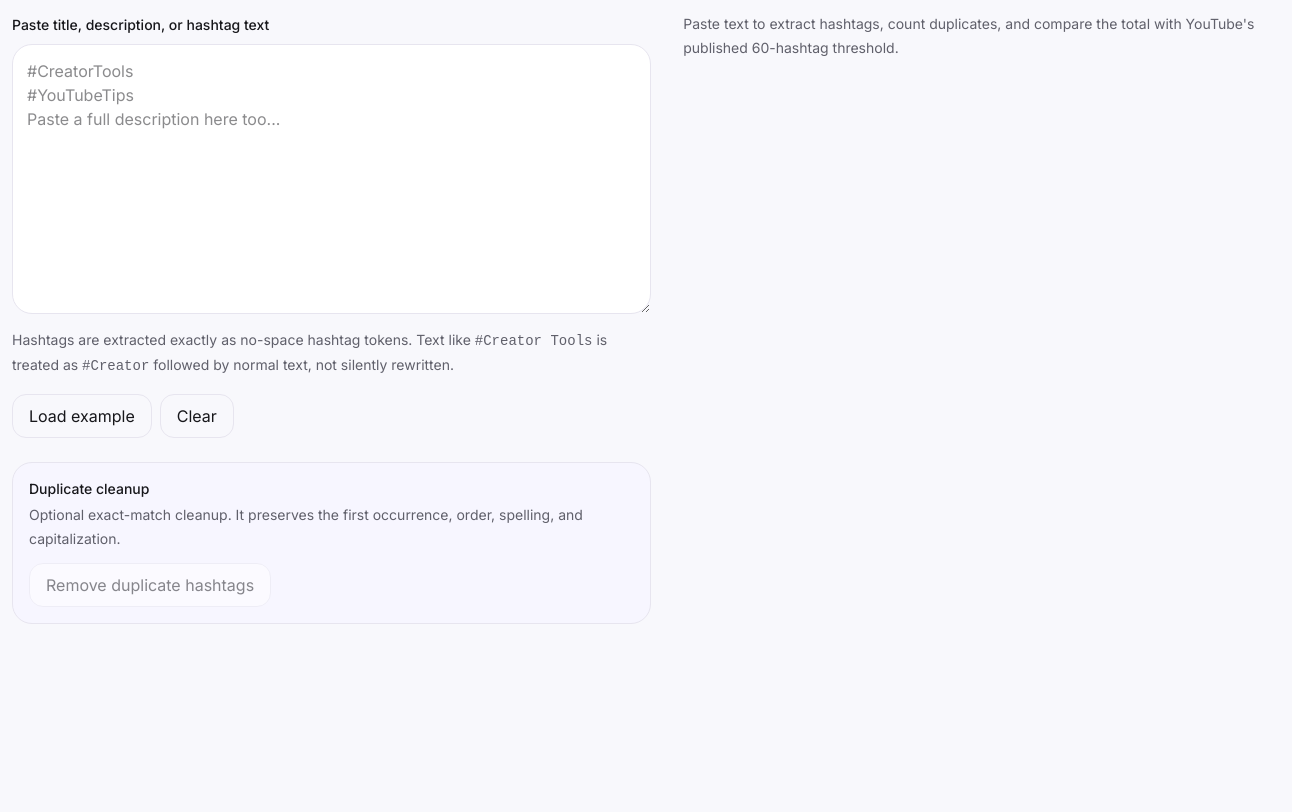
Test: YoutubeHashtagChecker › copies exactly the displayed extracted hashtag output
The width and height of the screenshot is (1292, 812).
Step 1. Replace the text in the text box labelled "Paste title, description, or hashtag text" with "Intro #One, #Two #One" → (332, 179), box [12,44,651,314]
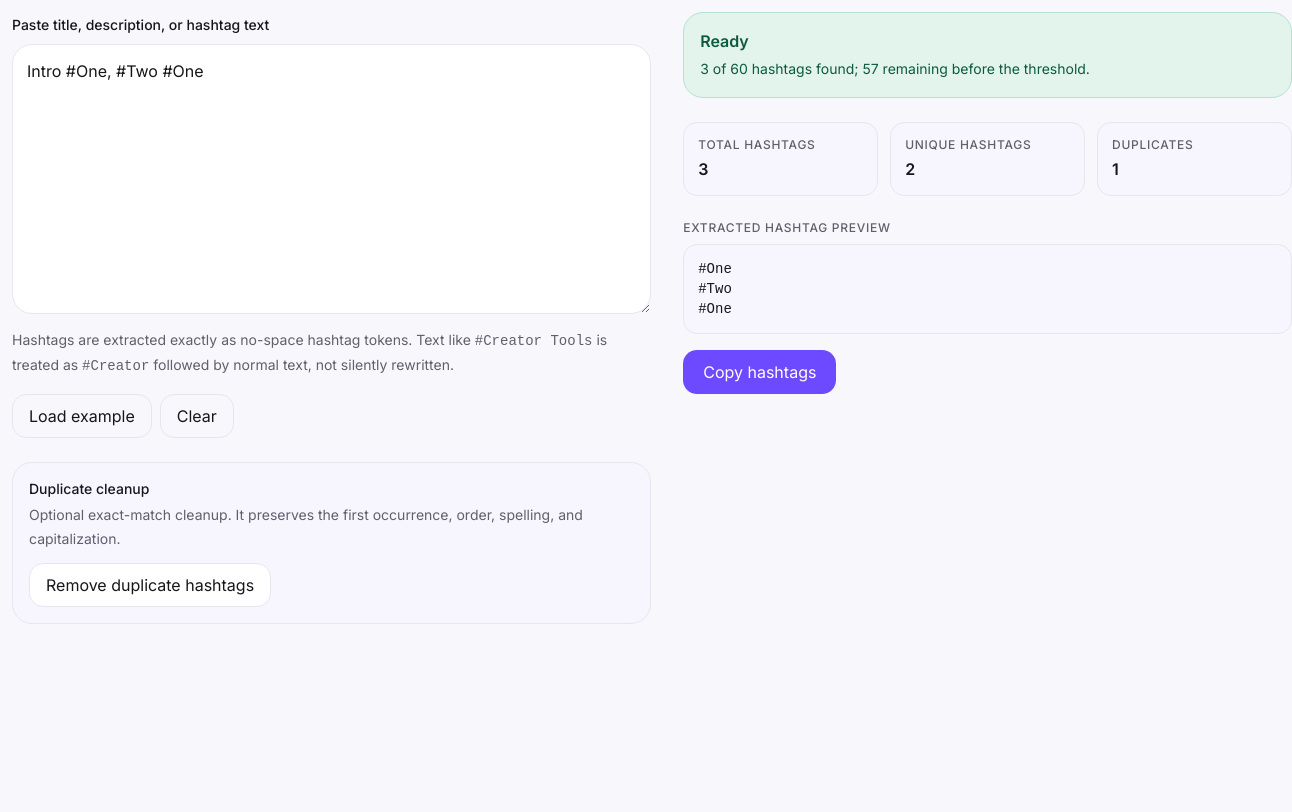
Step 2. Click the button "Copy hashtags" → (760, 372), box [683,350,836,394]
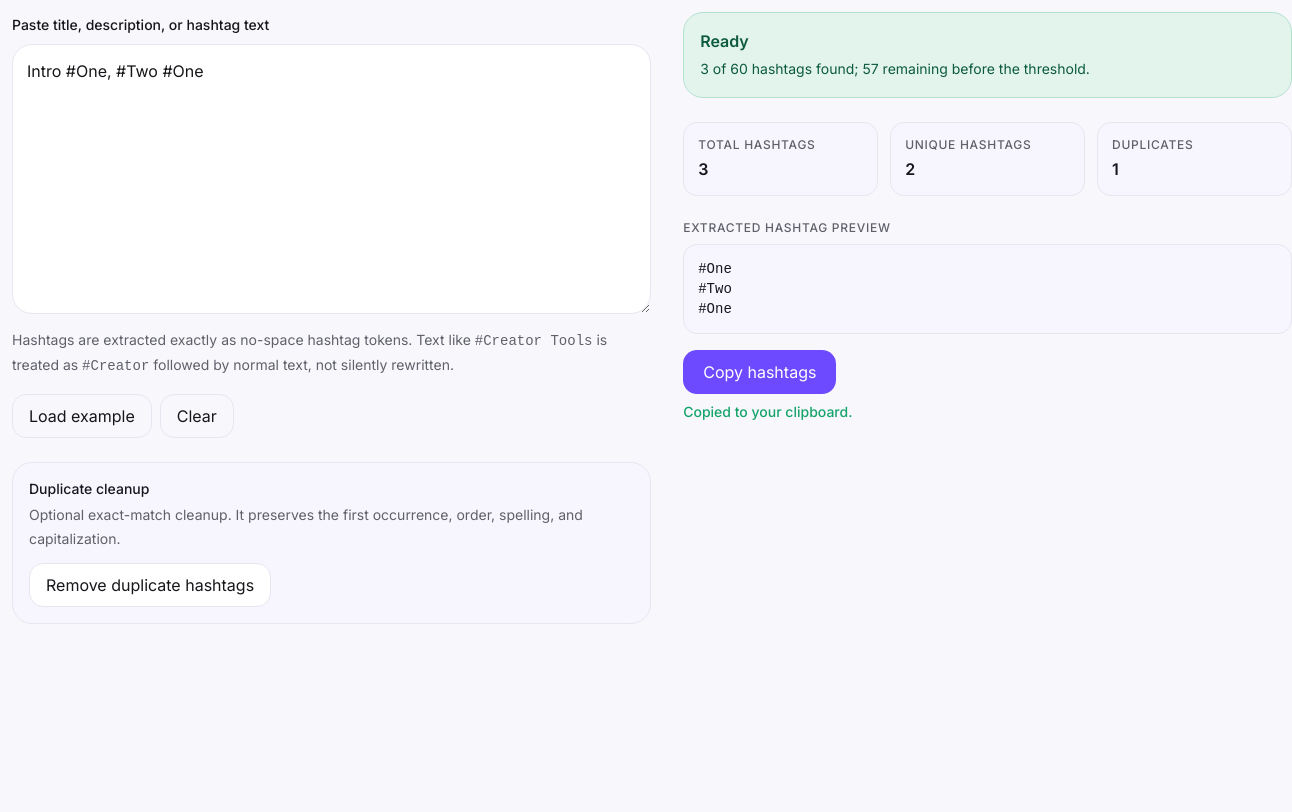
Expected: the message shows "Copied", [683,403,852,420]
